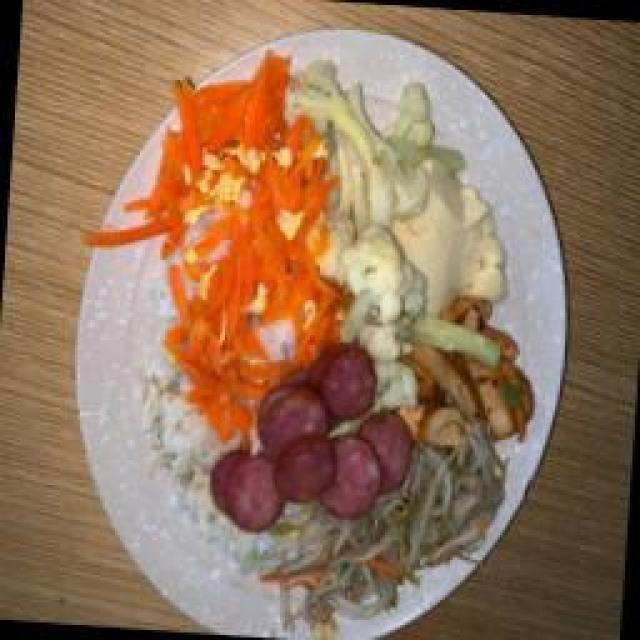carrot_eggs: (148, 75, 338, 378)
chinese_sausage: (205, 338, 415, 523)
mung_bean_sprouts: (320, 437, 510, 640)
rice: (130, 345, 295, 558)
